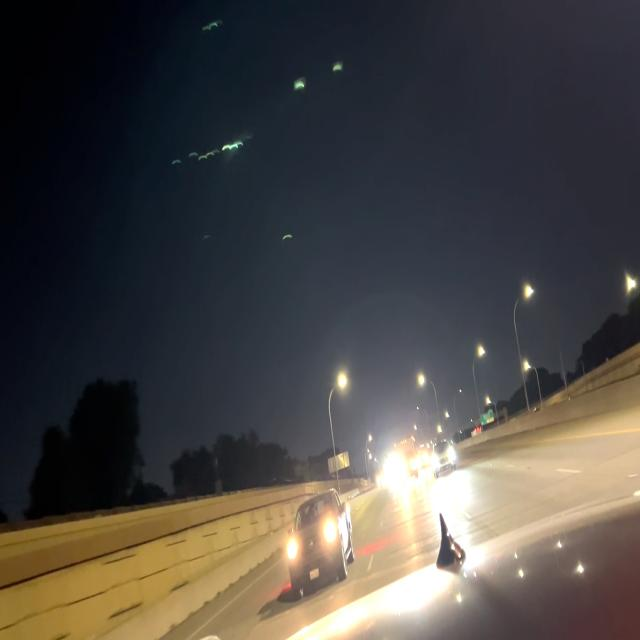back-of-sign: (327, 450, 350, 476)
